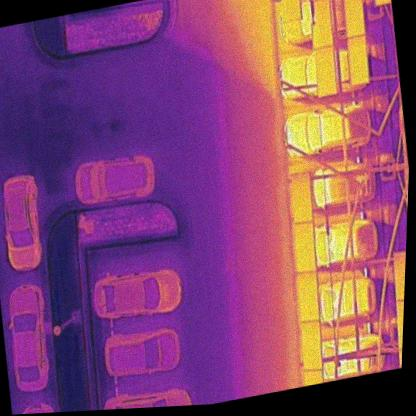Diode: (367, 0, 392, 6)
Normal: (288, 171, 317, 226), (311, 44, 340, 97), (290, 220, 318, 274), (295, 270, 323, 324), (298, 320, 325, 373), (345, 34, 372, 85), (312, 0, 336, 47), (340, 0, 367, 39), (390, 249, 406, 301), (392, 298, 404, 351), (276, 0, 303, 23)
